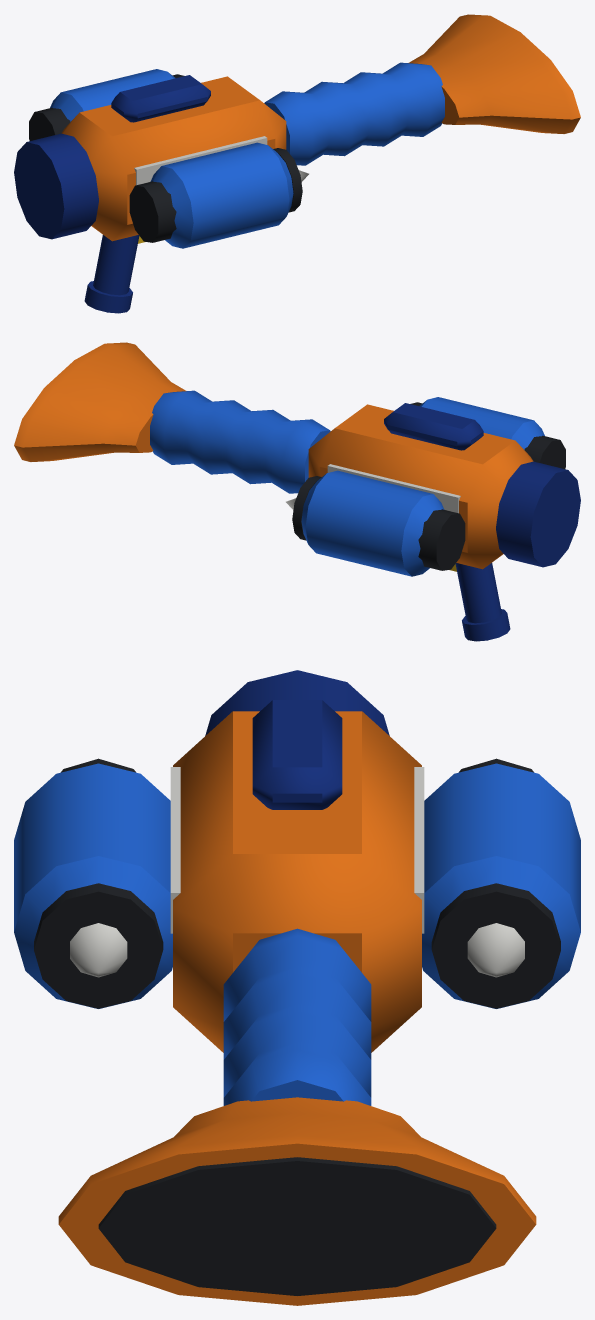
File: vac_2.glb
The picture shows the model from 3 angles, top to bottom: view 1: azimuth 30°, elevation 25°; view 2: azimuth 150°, elevation 25°; view 3: azimuth 270°, elevation 25°; orthographic projection. The views are drawn at different scales.
Visible parts, largest first — view 1: Body; view 2: Body; view 3: Body.
Boxes of the visible parts, x1=… form: Body: x1=14, y1=14, x2=580, y2=313; Body: x1=14, y1=342, x2=580, y2=641; Body: x1=14, y1=670, x2=580, y2=1305.
Bounding box in the file's own units: 1.11 × 0.4567 × 0.57.
